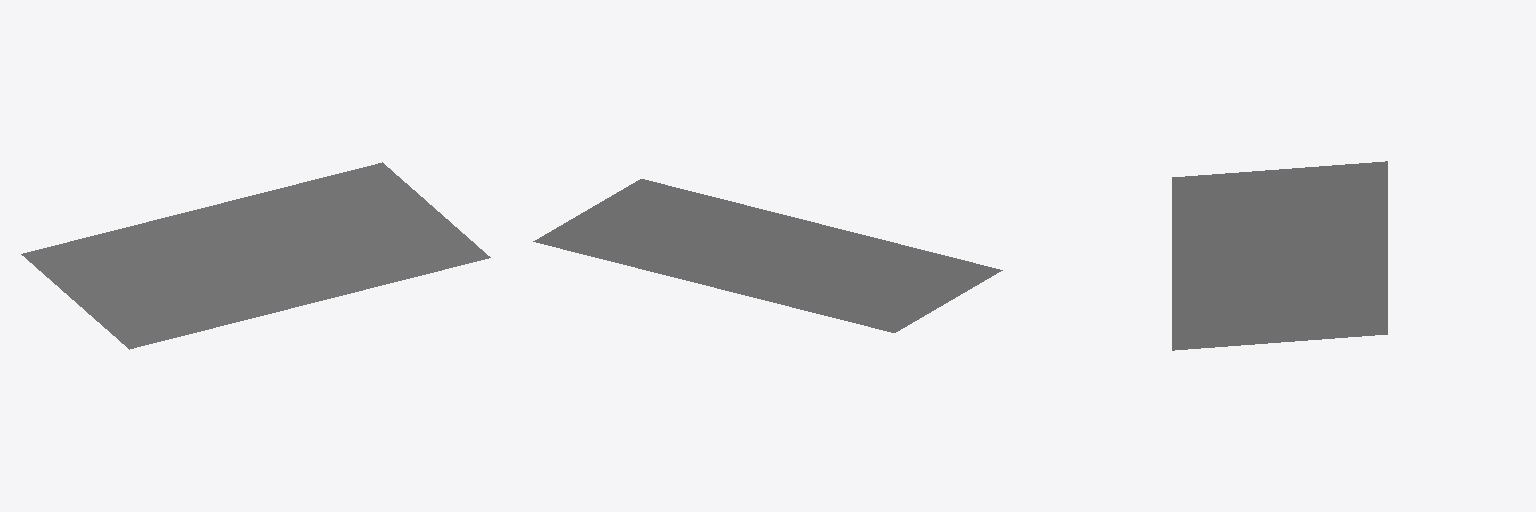
The model's file is floor.obj.
3 renders of one model, left to right at view 1: azimuth 30°, elevation 25°; view 2: azimuth 150°, elevation 25°; view 3: azimuth 270°, elevation 25°, orthographic.
Visible parts, largest first — view 1: Background Mesh; view 2: Background Mesh; view 3: Background Mesh.
Part boxes in pixels (bbox=[...]): Background Mesh: bbox=[21, 162, 490, 349]; Background Mesh: bbox=[533, 179, 1002, 332]; Background Mesh: bbox=[1172, 161, 1387, 350].
Bounding box in the file's own units: 17.64 × 0.9099 × 9.15.